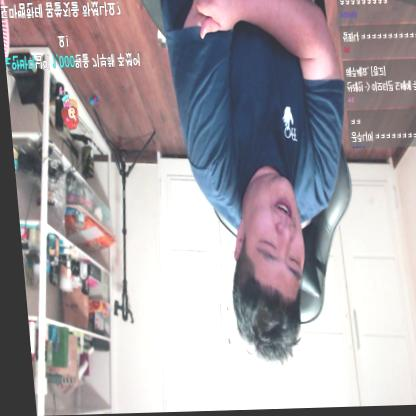donation: (0, 0, 143, 132)
streamer: (164, 0, 358, 366)
